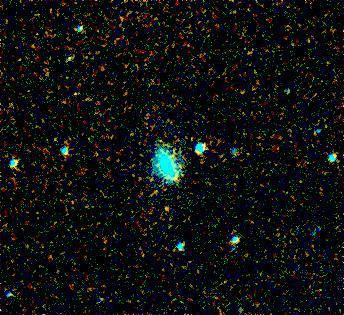star: (151, 195, 181, 225)
